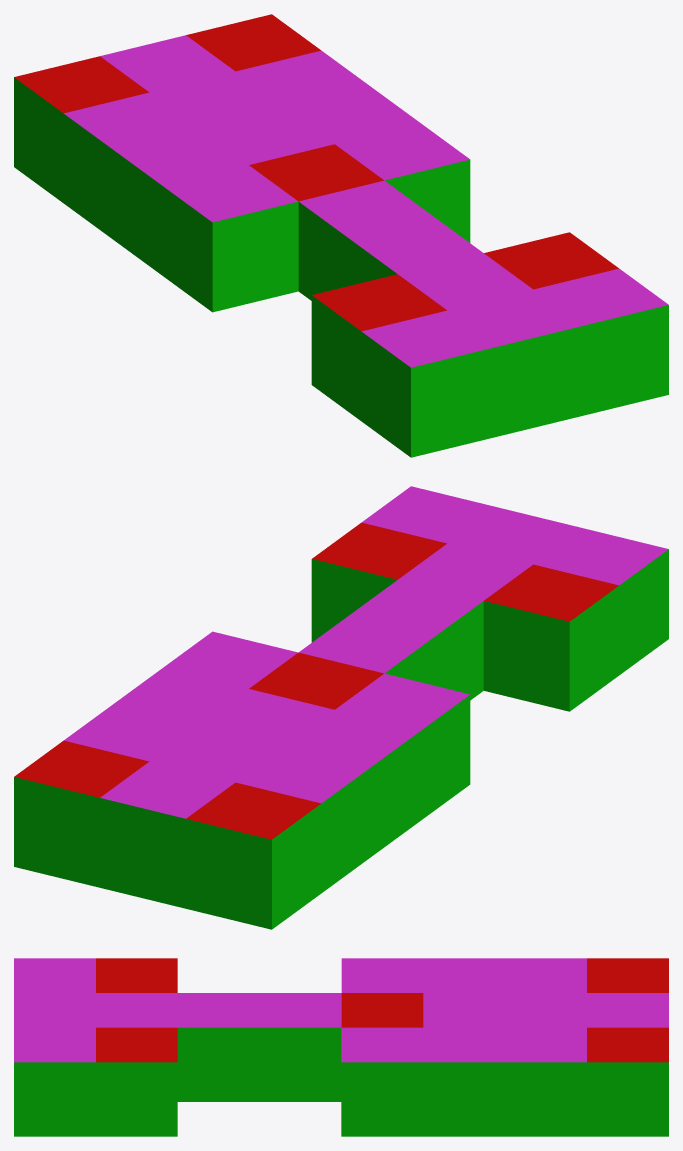
Rendered from UrBoard.fbx.
3 views of the same model, one above another, from view 1: azimuth 30°, elevation 25°; view 2: azimuth 150°, elevation 25°; view 3: azimuth 270°, elevation 25° (orthographic). The views are drawn at different scales.
Parts seen in each view (by area): view 1: Board; view 2: Board; view 3: Board.
Boxes of the visible parts, <box> form: Board: <box>14,14,668,457</box>; Board: <box>14,486,668,929</box>; Board: <box>14,958,668,1136</box>.
Bounding box in the file's own units: 300 × 100 × 800.
